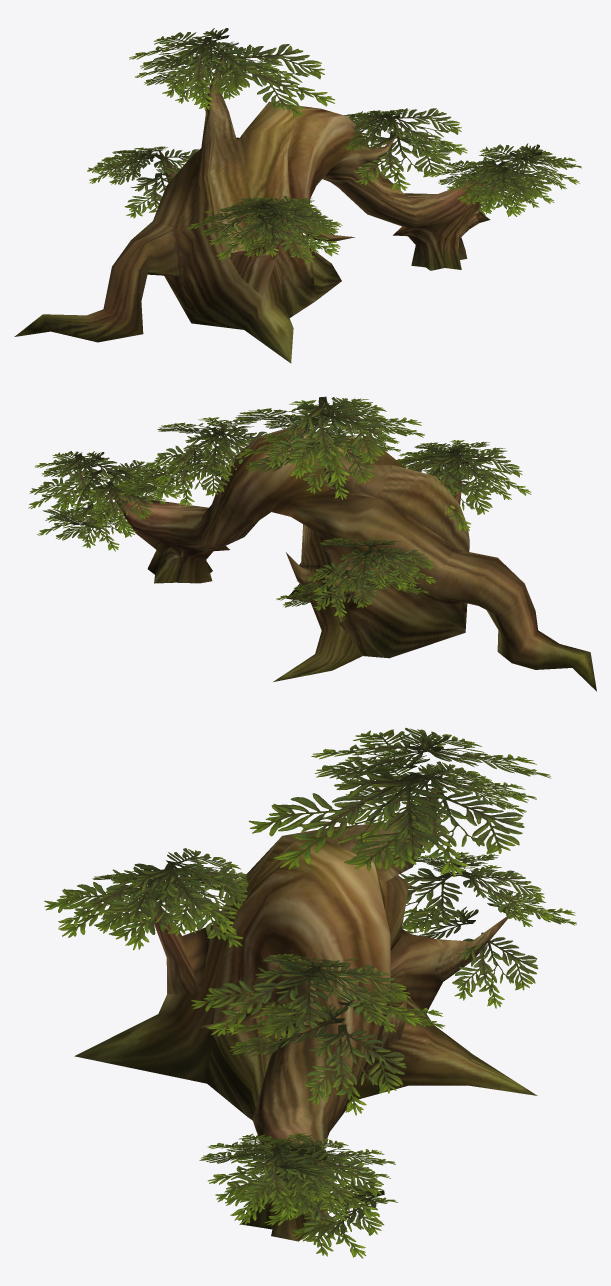
The model's file is environment_Tree_Green_002_a.FBX.
3 renders of one model, top to bottom at view 1: azimuth 30°, elevation 25°; view 2: azimuth 150°, elevation 25°; view 3: azimuth 270°, elevation 25°, orthographic. The views are drawn at different scales.
Parts seen in each view (by area): view 1: environment_Tree_Green_002_a, environment_Tree_Green_002_b; view 2: environment_Tree_Green_002_a, environment_Tree_Green_002_b; view 3: environment_Tree_Green_002_b, environment_Tree_Green_002_a.
Part boxes in pixels (x1=…): environment_Tree_Green_002_a: x1=14, y1=50, x2=490, y2=363; environment_Tree_Green_002_b: x1=87, y1=28, x2=581, y2=263; environment_Tree_Green_002_a: x1=106, y1=427, x2=596, y2=691; environment_Tree_Green_002_b: x1=28, y1=396, x2=531, y2=617; environment_Tree_Green_002_b: x1=44, y1=728, x2=576, y2=1258; environment_Tree_Green_002_a: x1=74, y1=781, x2=537, y2=1241.
Size of the model in its own units: 1130 by 463 by 700.
